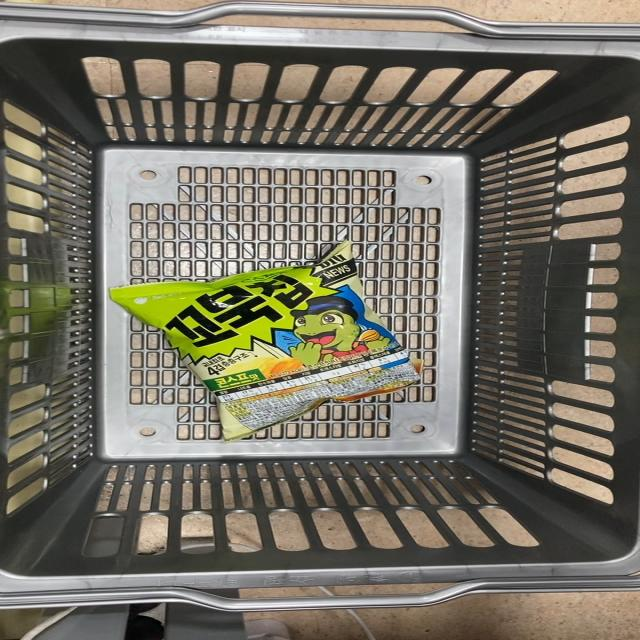ggobukchip: (101, 242, 416, 440)
